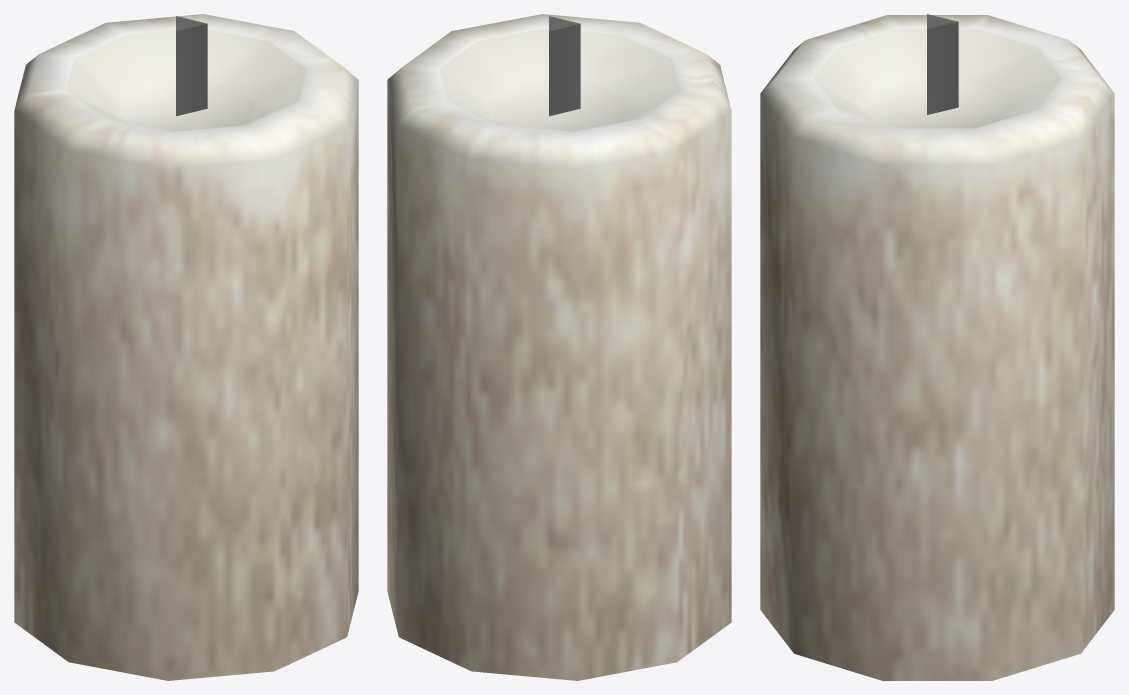
File: candle-01.fbx
3 renders of one model, left to right at view 1: azimuth 30°, elevation 25°; view 2: azimuth 150°, elevation 25°; view 3: azimuth 270°, elevation 25°, orthographic.
Parts seen in each view (by area): view 1: Cylinder; view 2: Cylinder; view 3: Cylinder.
Part boxes in pixels (left/top/right/bottom): Cylinder: left=14, top=14, right=358, bottom=680; Cylinder: left=387, top=14, right=731, bottom=680; Cylinder: left=760, top=14, right=1114, bottom=680.
Bounding box in the file's own units: 0.1902 × 0.3659 × 0.2.
